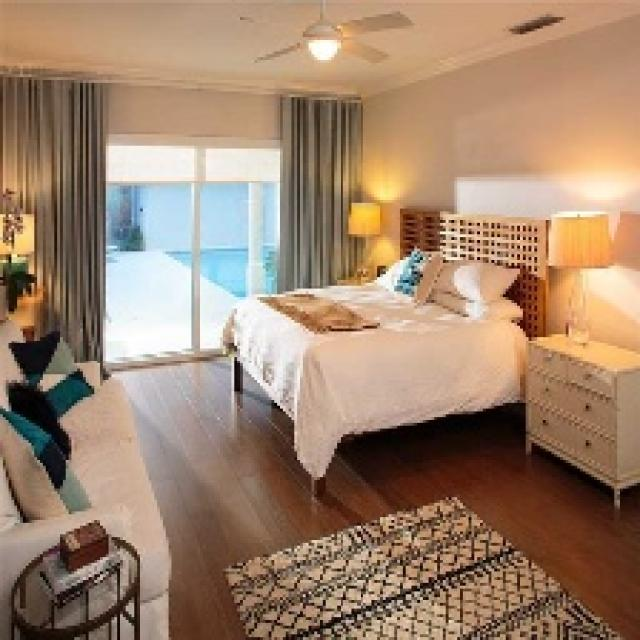Bed: (220, 206, 549, 494)
